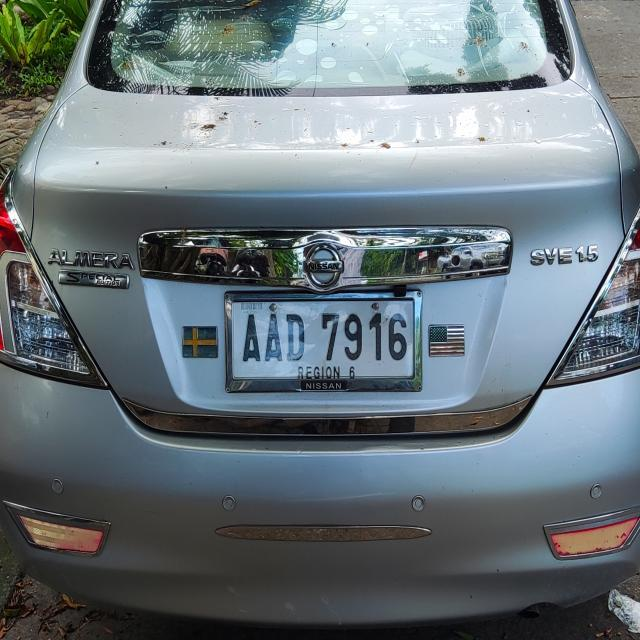LicensePlate: (207, 285, 428, 395)
